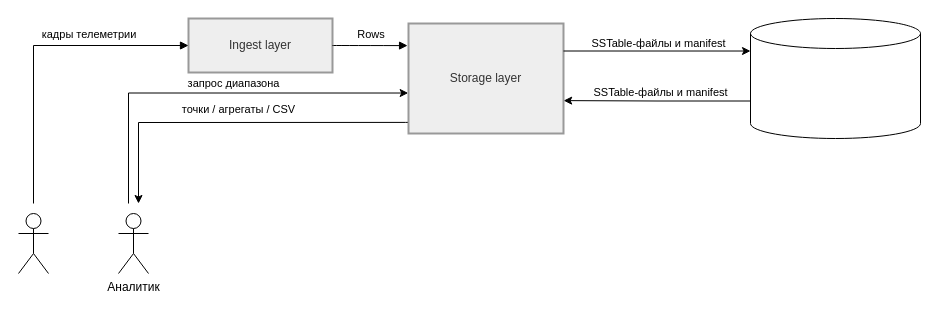
The diagram is 938 pixels wide and 311 high, and some of its shapes have lost their labels. Here are the shapes that lost their labels. From the top down, the centre of each, then its label:
At [835,78]: "Физическое хранилище локальная файловая система".
At [33,243]: "FDAU".
